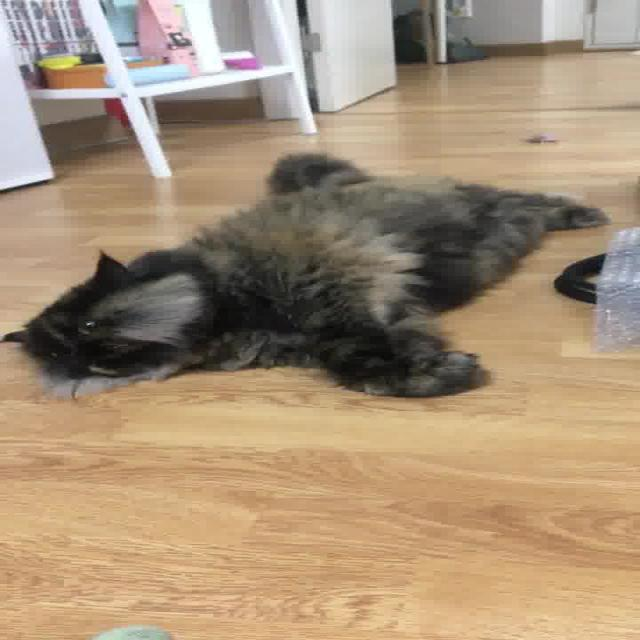cat: (0, 138, 629, 407)
